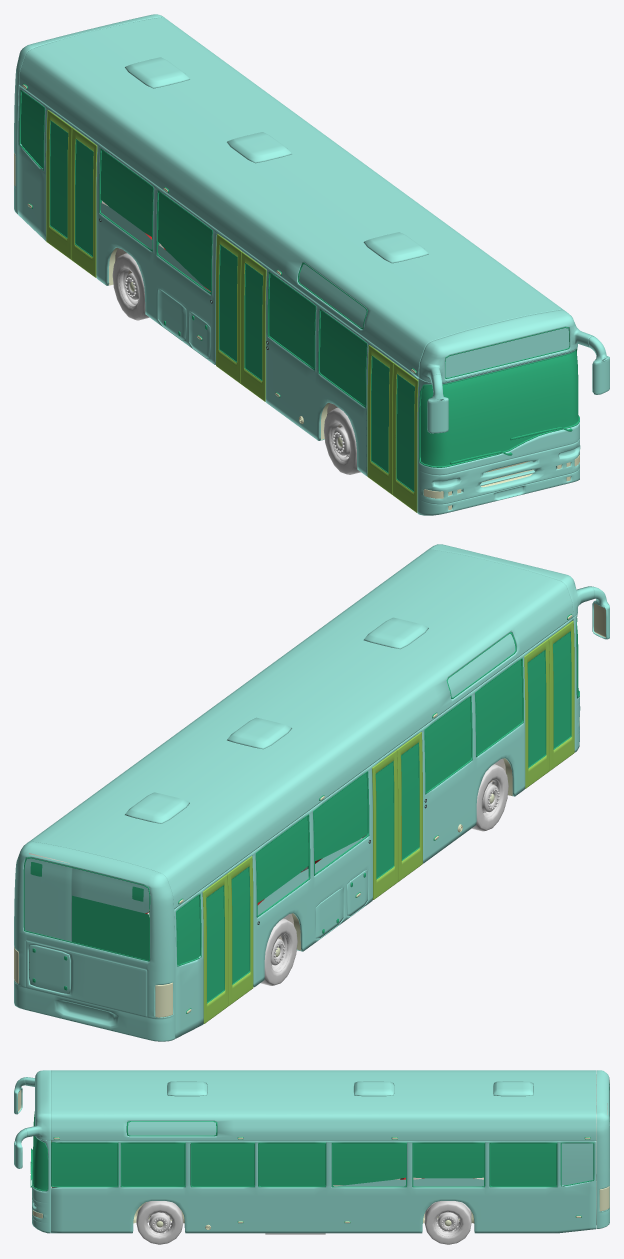
File: bus4.gltf
3 renders of one model, top to bottom at view 1: azimuth 30°, elevation 25°; view 2: azimuth 150°, elevation 25°; view 3: azimuth 270°, elevation 25°, orthographic. The views are drawn at different scales.
Parts seen in each view (by area): view 1: Object__1, Object__8, Object__5, Object__0, Object__7, Object__9; view 2: Object__1, Object__8, Object__5, Object__7, Object__9, Object__0; view 3: Object__1, Object__8, Object__7, Object__0, Object__9.
Part boxes in pixels (x1,y1,x2,y2): Object__1: (14, 14, 609, 515); Object__8: (19, 83, 579, 492); Object__5: (46, 110, 418, 512); Object__0: (323, 407, 360, 474); Object__7: (112, 253, 149, 320); Object__9: (14, 84, 579, 510); Object__1: (14, 544, 609, 1041); Object__8: (23, 614, 579, 1013); Object__5: (202, 620, 574, 1023); Object__7: (261, 918, 297, 985); Object__9: (14, 603, 605, 1017); Object__0: (472, 764, 508, 831); Object__1: (14, 1070, 609, 1233); Object__8: (30, 1082, 609, 1223); Object__7: (424, 1201, 471, 1244); Object__0: (136, 1201, 183, 1244); Object__9: (18, 1090, 609, 1229).
Bounding box in the file's own units: 4.72 × 4.88 × 19.67.
11 materials, 1 textured.
